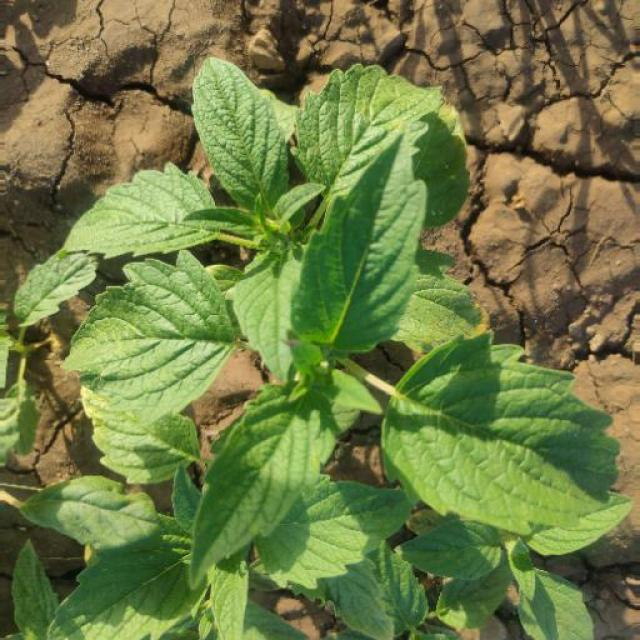crop: (20, 97, 610, 640)
